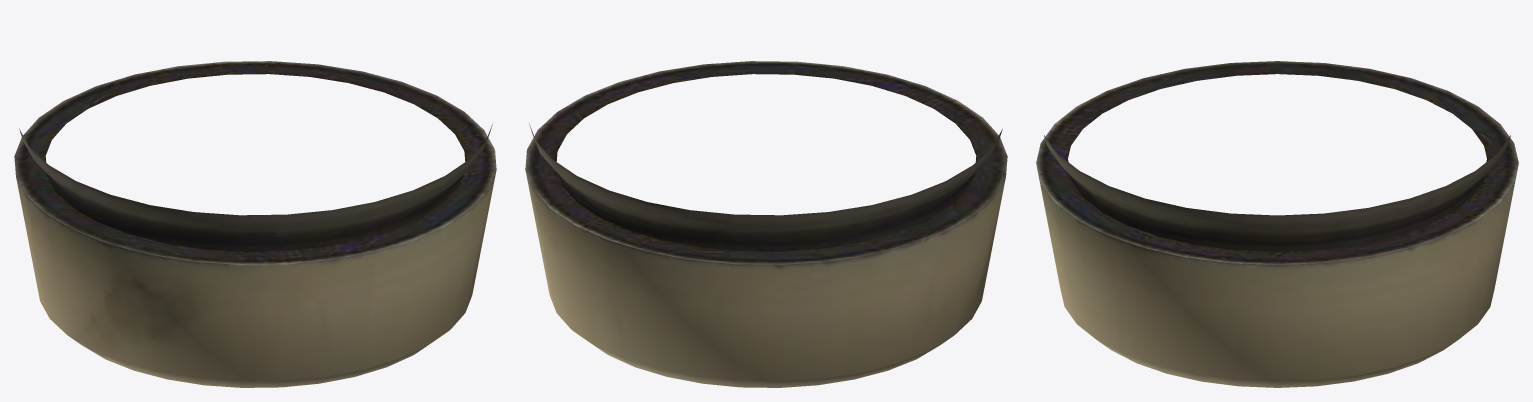
The model's file is smokedetector_a.glb.
3 renders of one model, left to right at view 1: azimuth 30°, elevation 25°; view 2: azimuth 150°, elevation 25°; view 3: azimuth 270°, elevation 25°, orthographic.
Visible parts, largest first — view 1: SmokeDetector_a; view 2: SmokeDetector_a; view 3: SmokeDetector_a.
Part boxes in pixels (left/top/right/bottom): SmokeDetector_a: left=14, top=61, right=496, bottom=387; SmokeDetector_a: left=525, top=61, right=1007, bottom=387; SmokeDetector_a: left=1036, top=61, right=1518, bottom=387.
Bounding box in the file's own units: 0.1341 × 0.0579 × 0.1341.
Materials: 1 (1 with a texture image).
